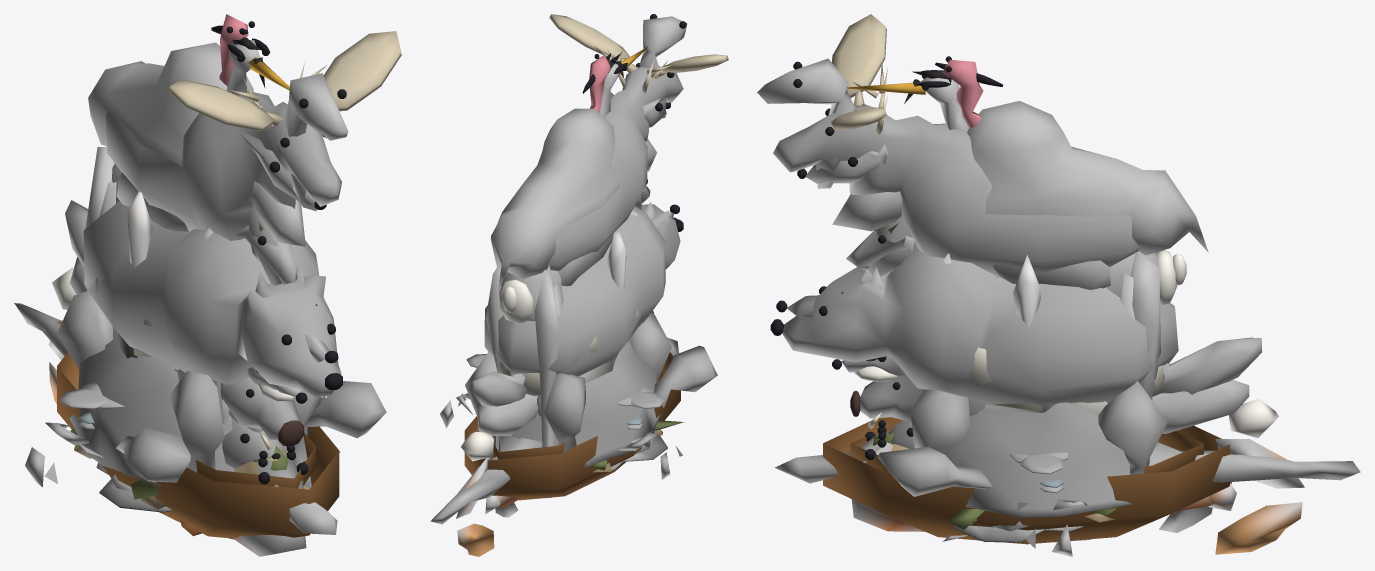
Rendered from animals_low.glb.
3 views of the same model, side by side, from view 1: azimuth 30°, elevation 25°; view 2: azimuth 150°, elevation 25°; view 3: azimuth 270°, elevation 25° (orthographic). The views are drawn at different scales.
Visible parts, largest first — view 1: body.015, body.024, body.017, hull, shell, body.007, antlers.001, leg1.006, body.023, body.026, leg3.004, body.005 (+16 smaller); view 2: body.017, body.015, body.024, shell, hull, body.007, leg3.005, leg3.004, antlers.001, body.026, body.006, body.014 (+14 smaller); view 3: body.015, body.024, body.017, hull, shell, body.026, tail.001, body.014, body.007, antlers.001, leg2.004, body.006 (+15 smaller).
Part boxes in pixels (<box>): body.015: <box>83,201,341,396</box>; body.024: <box>106,90,341,240</box>; body.017: <box>88,42,348,246</box>; hull: <box>57,352,339,538</box>; shell: <box>69,338,308,487</box>; body.007: <box>25,381,386,486</box>; antlers.001: <box>167,31,401,131</box>; leg1.006: <box>169,370,224,472</box>; body.023: <box>177,369,300,439</box>; body.026: <box>14,303,337,534</box>; leg3.004: <box>57,290,113,368</box>; body.005: <box>112,130,315,285</box>; body.017: <box>490,16,687,294</box>; body.015: <box>484,204,680,376</box>; body.024: <box>544,66,683,271</box>; shell: <box>495,341,661,466</box>; hull: <box>464,352,680,500</box>; body.007: <box>440,345,717,479</box>; leg3.005: <box>534,265,559,447</box>; leg3.004: <box>544,373,585,452</box>; antlers.001: <box>549,14,728,80</box>; body.026: <box>430,337,678,524</box>; body.006: <box>477,394,538,435</box>; body.014: <box>470,201,674,406</box>; body.015: <box>782,248,1178,405</box>; body.024: <box>773,104,1139,274</box>; body.017: <box>757,58,1208,255</box>; hull: <box>823,417,1231,544</box>; shell: <box>947,402,1156,517</box>; body.026: <box>775,432,1360,483</box>; tail.001: <box>1208,439,1304,554</box>; body.014: <box>787,267,1262,394</box>; body.007: <box>877,446,1089,556</box>; antlers.001: <box>830,14,886,130</box>; leg2.004: <box>1098,381,1167,474</box>; body.006: <box>841,355,1249,433</box>.
Bounding box in the file's own units: 1.1 × 1.88 × 2.08.
